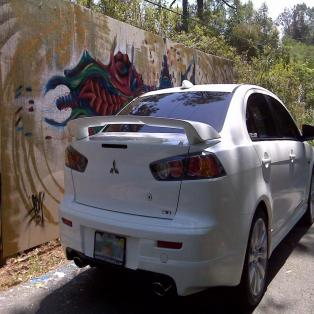Auto: (59, 80, 313, 307)
